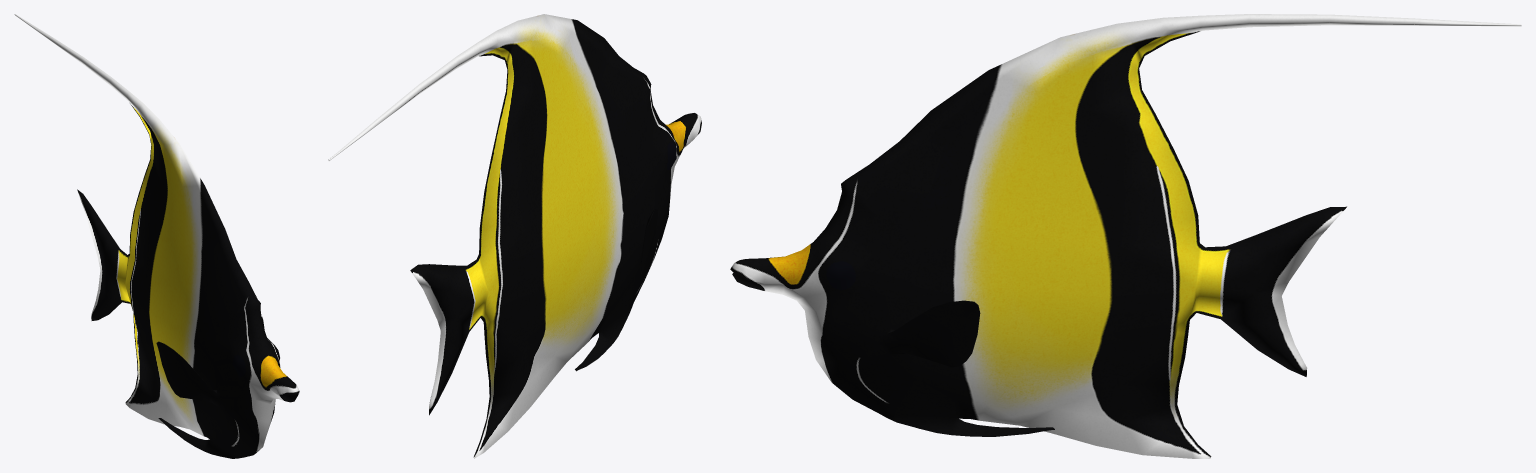
The model's file is fish01.glb.
3 renders of one model, left to right at view 1: azimuth 30°, elevation 25°; view 2: azimuth 150°, elevation 25°; view 3: azimuth 270°, elevation 25°, orthographic. The views are drawn at different scales.
Parts seen in each view (by area): view 1: Object_162; view 2: Object_162; view 3: Object_162.
Boxes of the visible parts, x1,y1,x2,y2 form: Object_162: (14, 14, 299, 458); Object_162: (328, 14, 701, 458); Object_162: (730, 14, 1521, 458).
Size of the model in its own units: 0.1096 by 0.3177 by 0.5122.
1 material, 1 textured.
